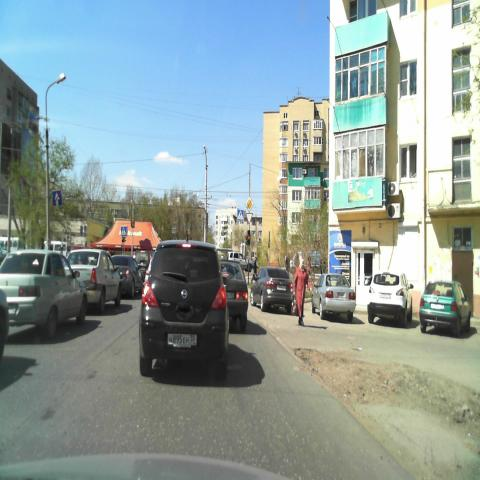2_2: (245, 196, 254, 212)
2_4: (246, 212, 253, 224)
5_19_1: (238, 209, 244, 222), (121, 226, 127, 236)
5_6: (52, 190, 62, 206)
